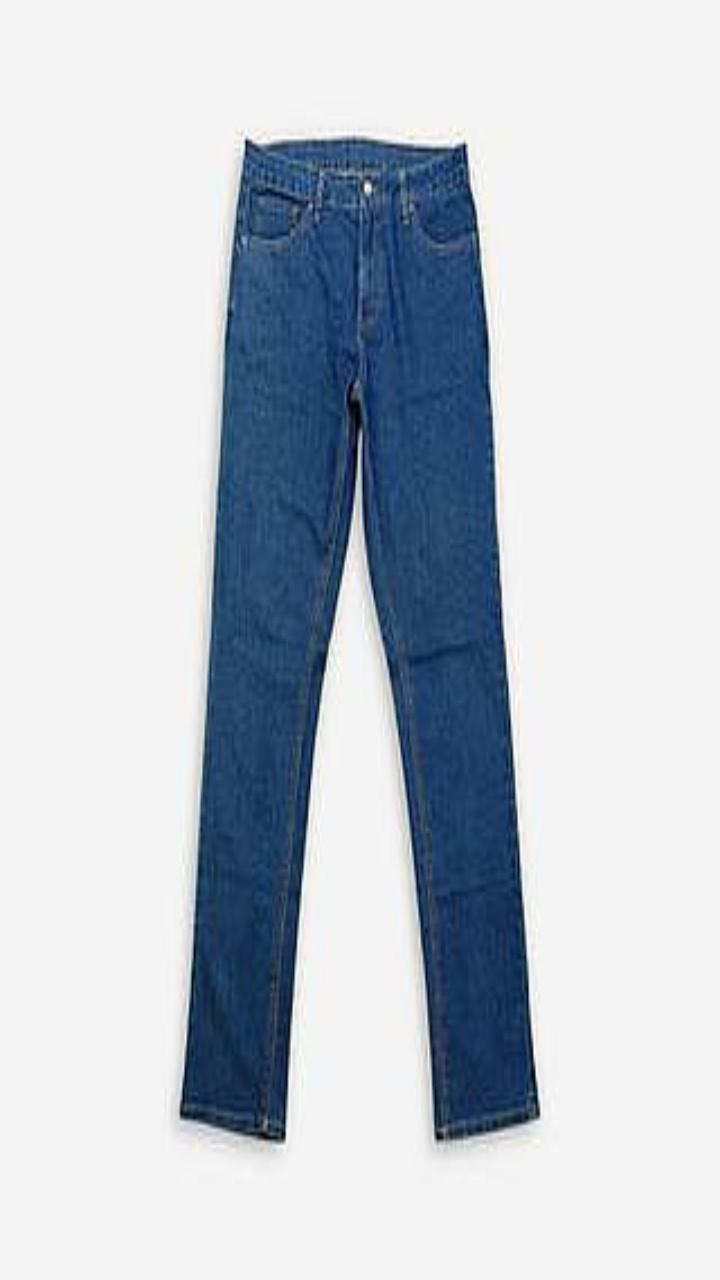Jeans: (181, 140, 537, 1138)
